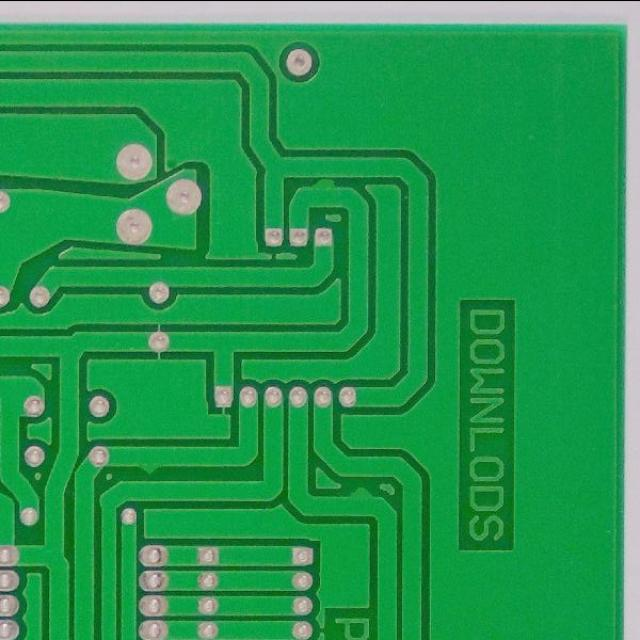Spur: (131, 441, 168, 478), (343, 482, 380, 519), (308, 176, 342, 210)
